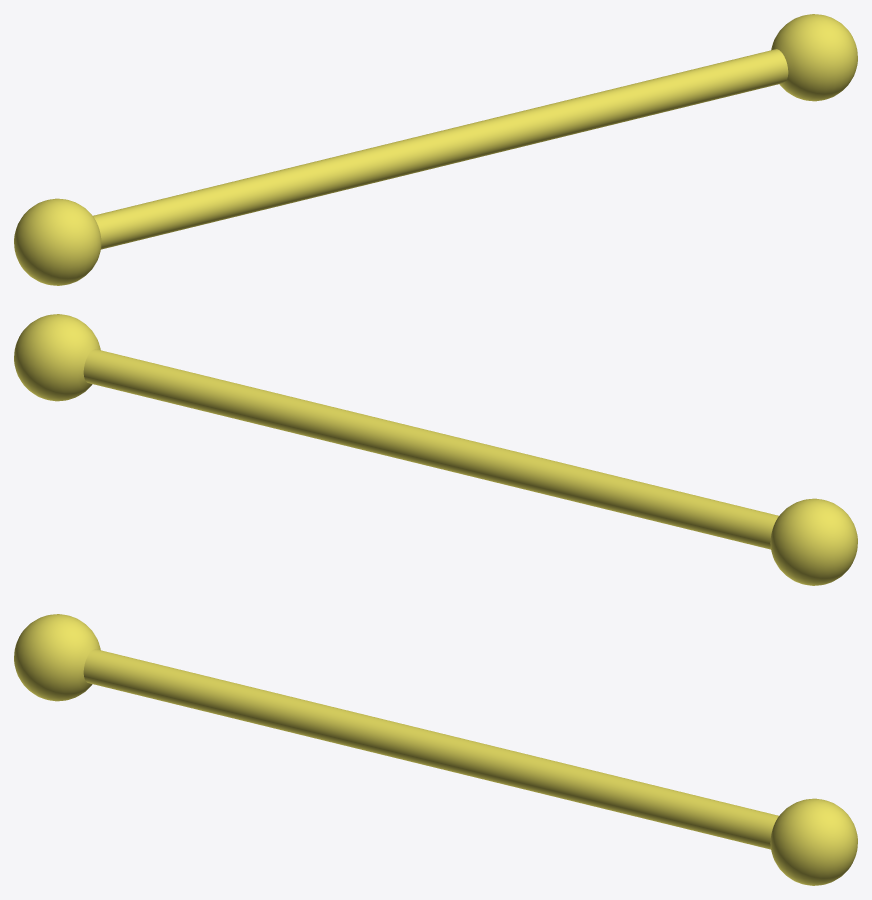
Rendered from Bar.fbx.
3 views of the same model, one above another, from view 1: azimuth 30°, elevation 25°; view 2: azimuth 150°, elevation 25°; view 3: azimuth 330°, elevation 25° (orthographic).
Parts seen in each view (by area): view 1: Elevator 1; view 2: Elevator 1; view 3: Elevator 1.
Boxes of the visible parts, left/top/right/bottom form: Elevator 1: left=14, top=14, right=857, bottom=285; Elevator 1: left=14, top=314, right=857, bottom=585; Elevator 1: left=14, top=614, right=857, bottom=885.
Size of the model in its own units: 220 by 20 by 20.
